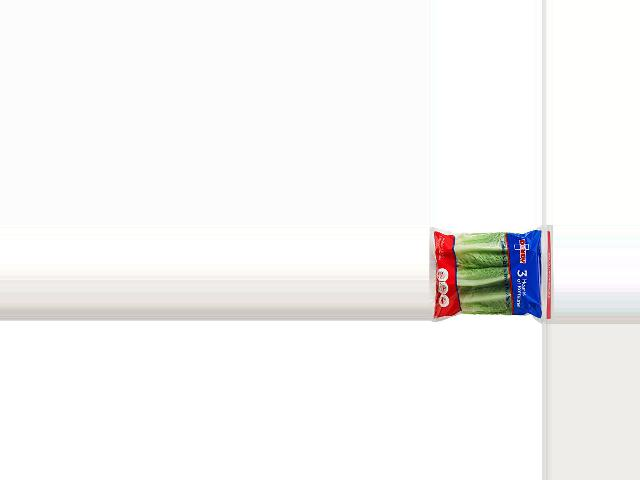lettuce: (429, 229, 544, 319)
